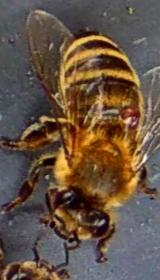varroa_mite: (117, 98, 145, 130)
